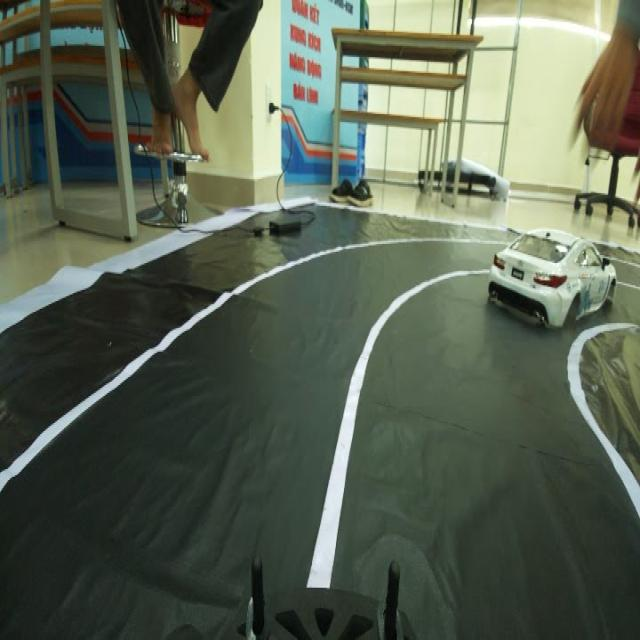car: (487, 200, 626, 332)
